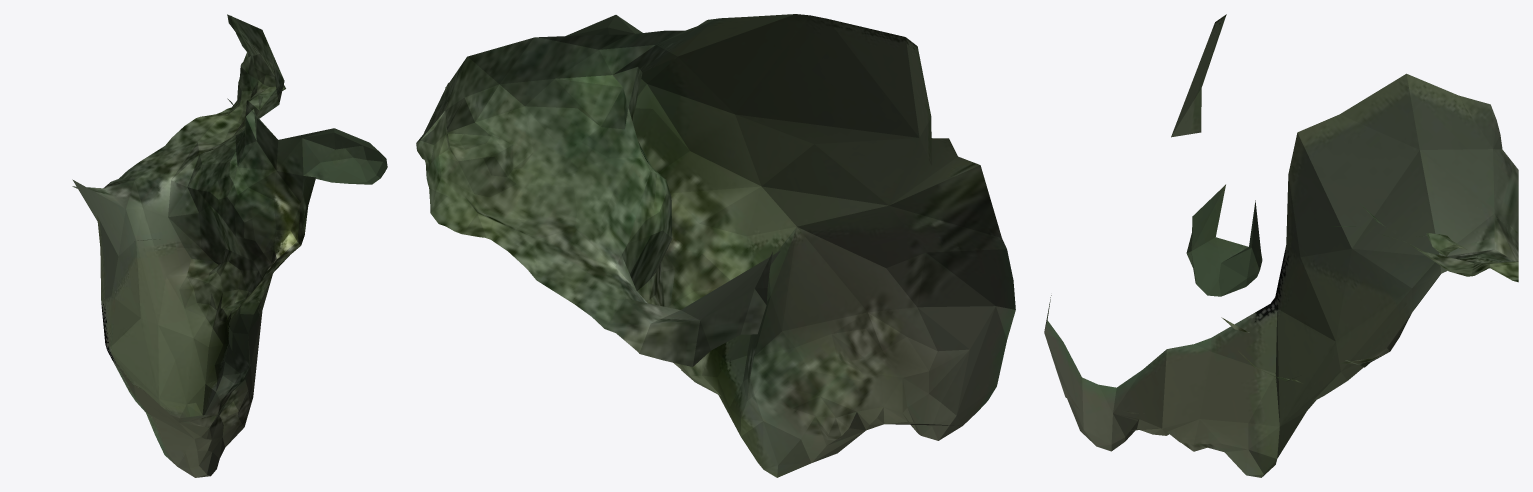
3 renders of one model, left to right at view 1: azimuth 30°, elevation 25°; view 2: azimuth 150°, elevation 25°; view 3: azimuth 270°, elevation 25°, orthographic. The views are drawn at different scales.
Size of the model in its own units: 4.53 by 5.14 by 5.37.
Materials: 3 (3 with a texture image).
